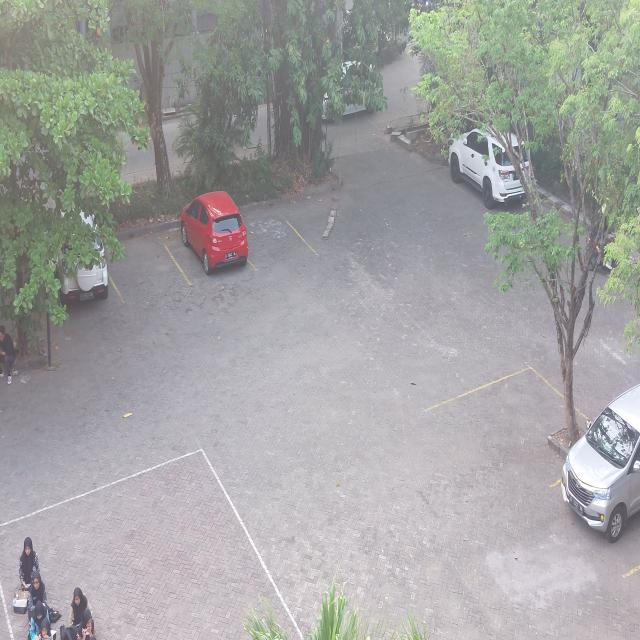empty: (424, 367, 583, 472), (98, 233, 191, 299), (239, 207, 322, 271)
occupied: (550, 430, 640, 577), (159, 190, 257, 284)
